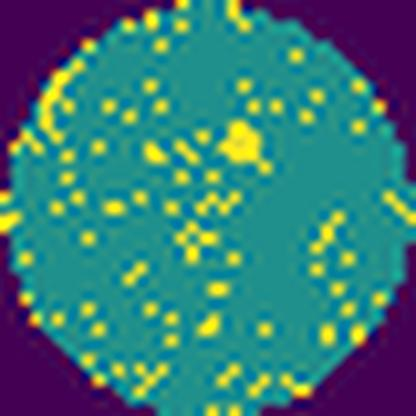Loc: (216, 118, 277, 180)
